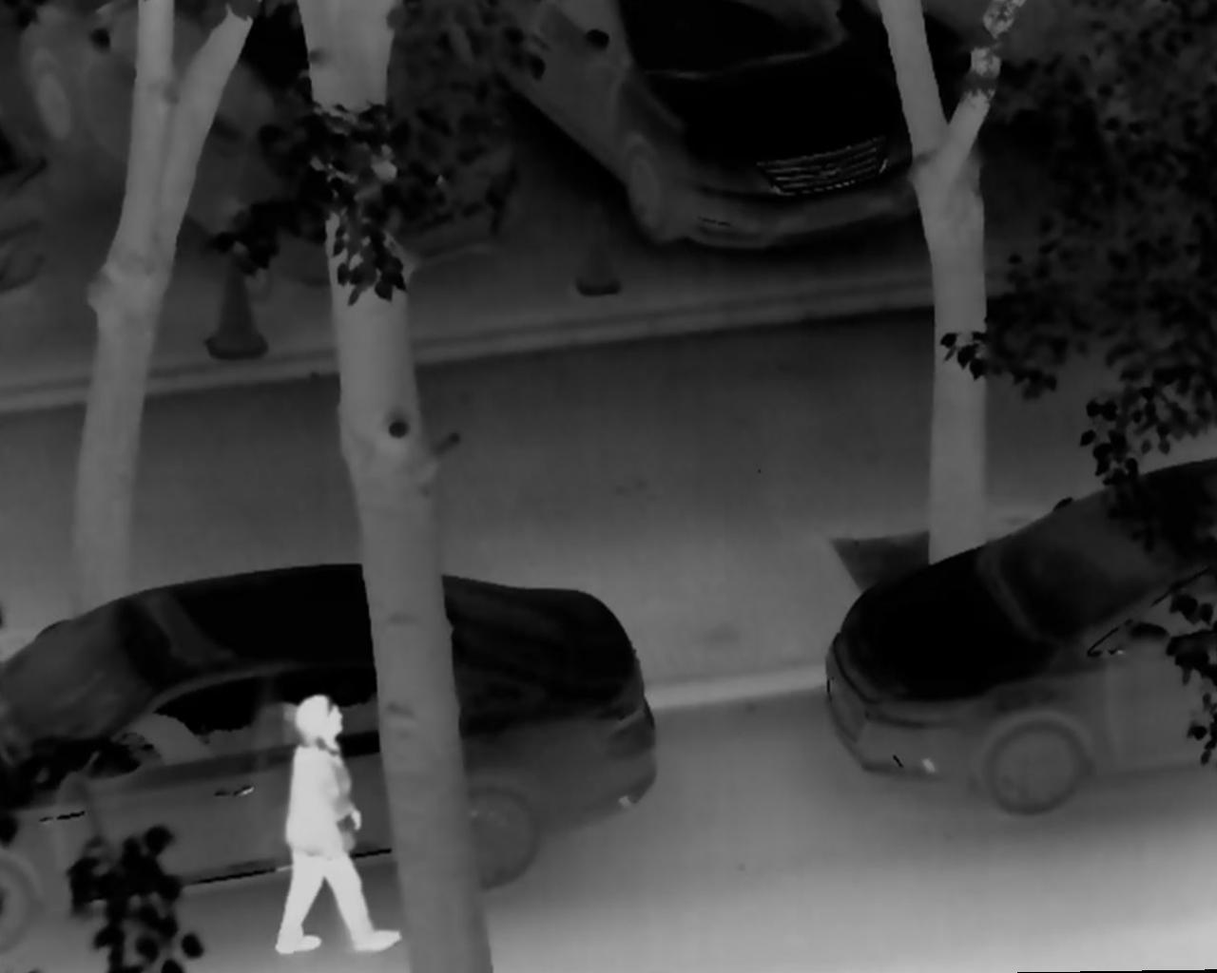person: (271, 695, 399, 957)
